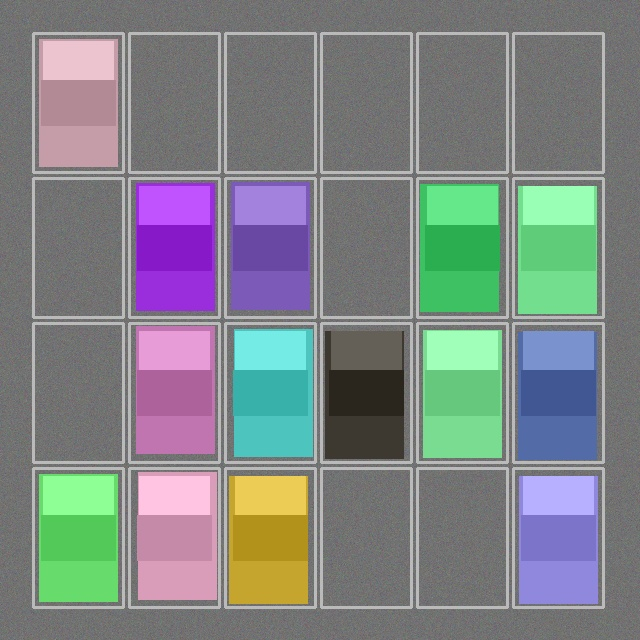space-empty: (131, 35, 217, 170), (227, 35, 313, 170), (323, 35, 409, 170), (419, 35, 505, 170), (515, 35, 601, 170), (35, 180, 121, 315), (323, 180, 409, 315), (35, 325, 121, 460), (323, 470, 409, 605), (419, 470, 505, 605)
space-occupied: (35, 35, 121, 170), (131, 180, 217, 315), (227, 180, 313, 315), (419, 180, 505, 315), (515, 180, 601, 315), (131, 325, 217, 460), (227, 325, 313, 460), (323, 325, 409, 460), (419, 325, 505, 460), (515, 325, 601, 460), (35, 470, 121, 605), (131, 470, 217, 605), (227, 470, 313, 605), (515, 470, 601, 605)
